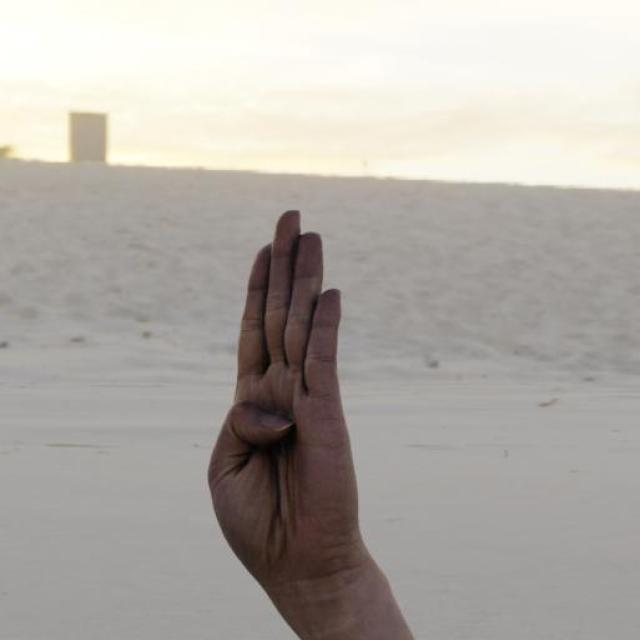B: (208, 208, 374, 578)
